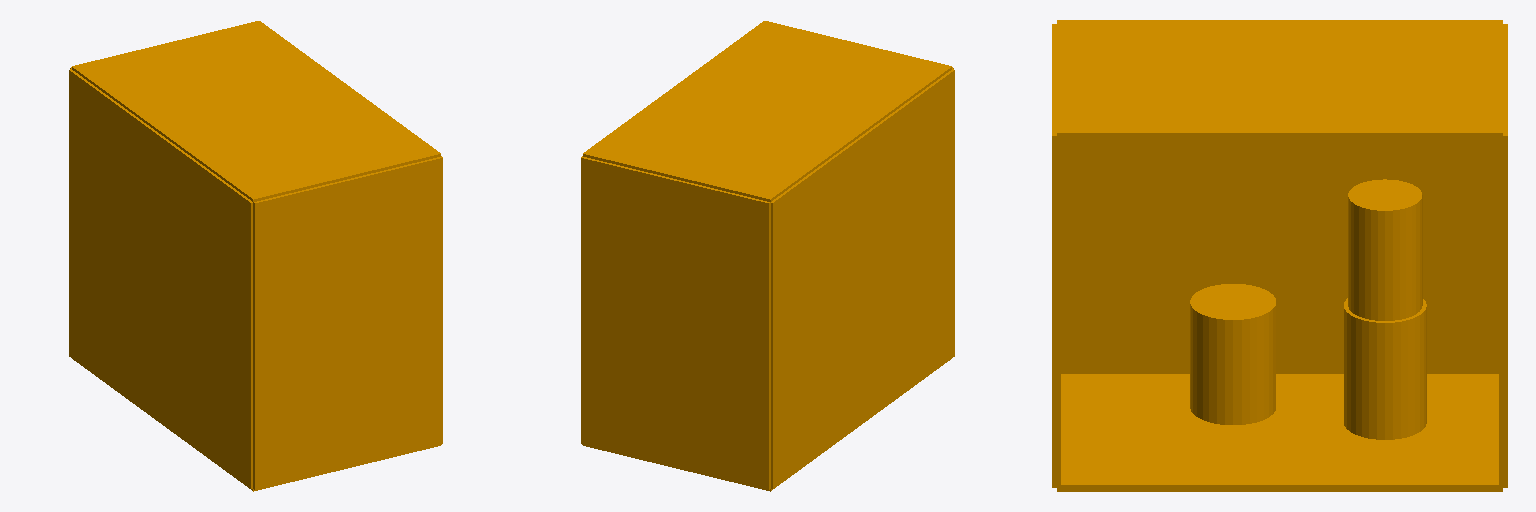
The robot description file, URDF, robot "syn_can_cabinet_2741":
<?xml version="1.0" ?>
<robot name="syn_can_cabinet_2741">
    <link concave="yes" name="base_link">
        <inertial>
            <origin rpy="0 0 0" xyz="0 0 0"/>
            <mass value="0.0"/>
            <inertia ixx="1e-08" ixy="0" ixz="0" iyy="1e-08" iyz="0" izz="1e-08"/>
        </inertial>
        <visual>
            <origin xyz="0 0 0" rpy="0 0 0" />
            <geometry>
                <mesh filename="syn_can_cabinet_2741.obj" scale="1.000000 1.000000 1.000000"/>
            </geometry>         
        </visual>

        <collision concave="yes">
            <origin xyz="0 0 0" rpy="0 0 0"/>
            <geometry>
                <mesh filename="syn_can_cabinet_2741.obj" scale="1.000000 1.000000 1.000000"/>
            </geometry>
        </collision>
    </link>
</robot>
    

--- Render facts (derived) ---
Views: 3 orthographic renders of the robot side by side, from view 1: azimuth 30°, elevation 25°; view 2: azimuth 150°, elevation 25°; view 3: azimuth 270°, elevation 25°.
Robot: syn_can_cabinet_2741 — 1 links, 0 joints (none); root link base_link; default pose: all joints at 0.
Links seen in each view (by area): view 1: base_link; view 2: base_link; view 3: base_link.
Link boxes in pixels (x1,y1,x2,y2): base_link: [69, 21, 442, 491]; base_link: [581, 21, 954, 491]; base_link: [1052, 20, 1507, 491].
Bounding box of the posed robot: 0.1958 × 0.3298 × 0.2866 m (x, y, z).
Meshes: 1 distinct files referenced, 1 mesh visuals loaded (1 OBJ).
